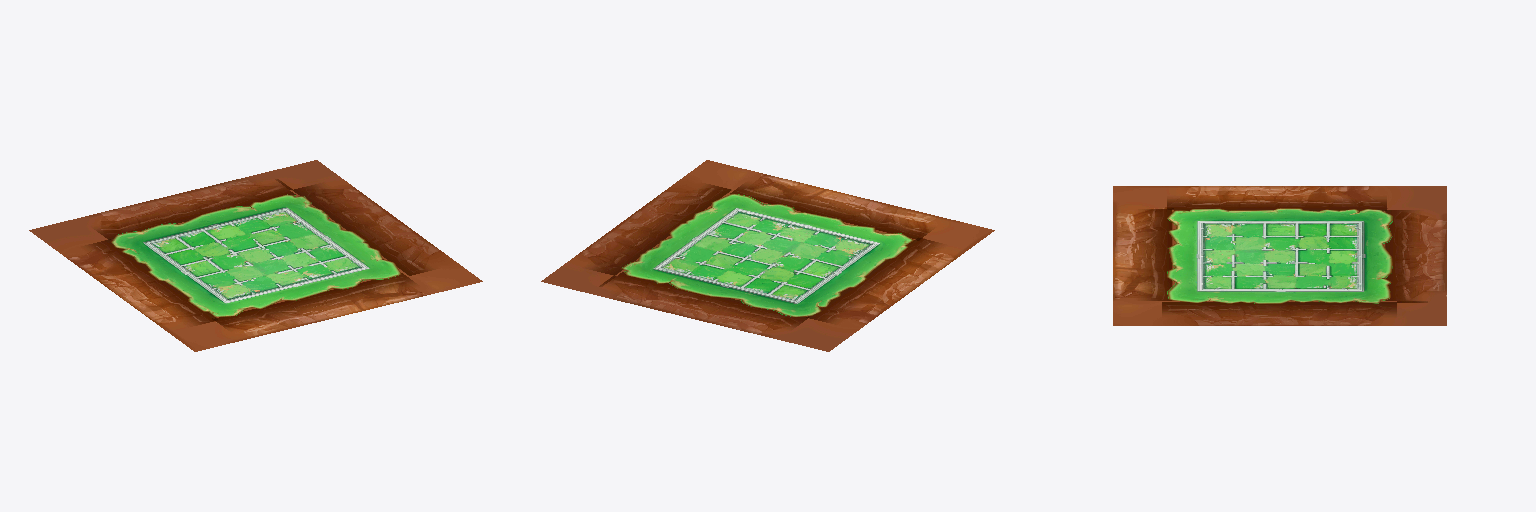
3 views of the same model, side by side, from view 1: azimuth 30°, elevation 25°; view 2: azimuth 150°, elevation 25°; view 3: azimuth 270°, elevation 25° (orthographic).
Parts seen in each view (by area): view 1: Board_#19612; view 2: Board_#19612; view 3: Board_#19612.
Part boxes in pixels (x1,y1,x2,y2): Board_#19612: (29, 160, 482, 351); Board_#19612: (541, 160, 994, 351); Board_#19612: (1113, 186, 1446, 325).
Bounding box in the file's own units: 12.67 × 0 × 12.67.
Materials: 1 (1 with a texture image).